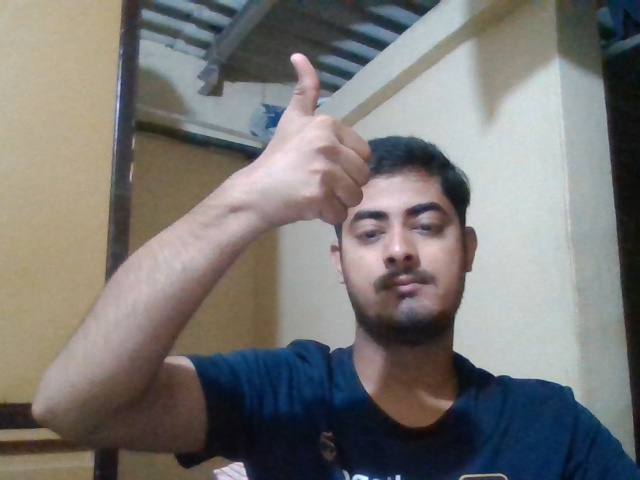ThumbsUp: (265, 54, 370, 224)
